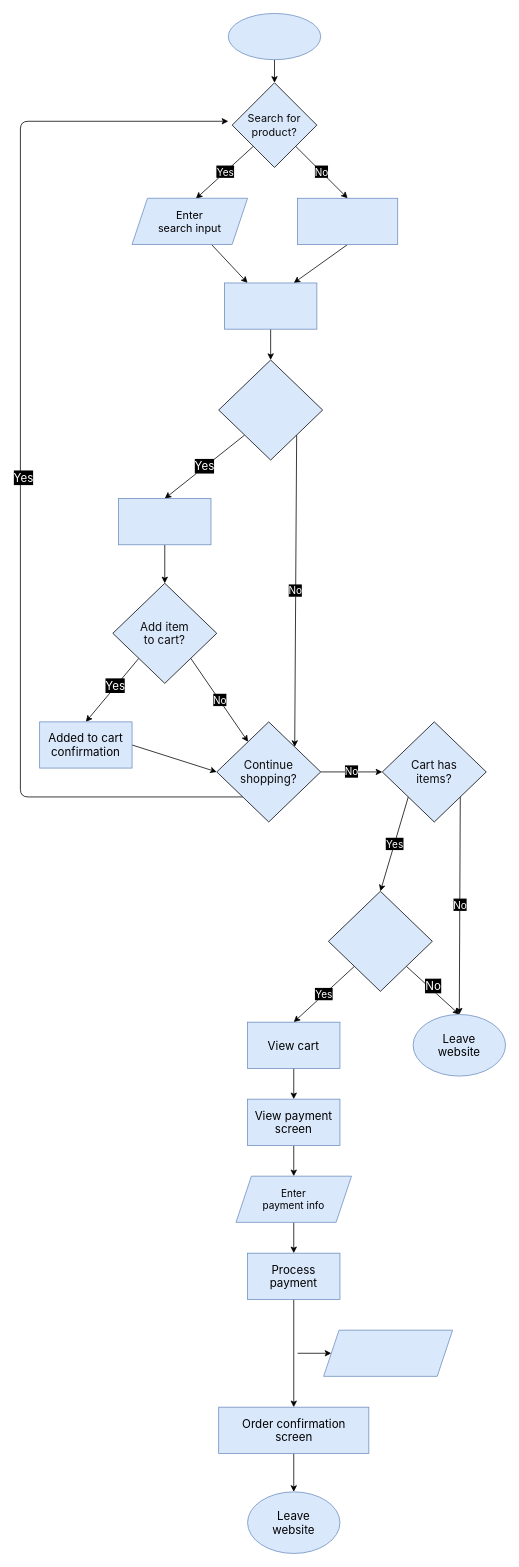
The diagram is 519 pixels wide and 1567 high, and some of its shapes have lost their labels. Each missing label, with the box of its shape:
Checkout?: (328, 891, 432, 991)
Enter website: (228, 13, 321, 60)
Explore homepage products: (297, 198, 398, 244)
Look over products: (224, 282, 317, 329)
Open product webpage: (118, 498, 211, 545)
Send confirmation email: (323, 1329, 453, 1376)
View a specific product?: (218, 359, 323, 460)
